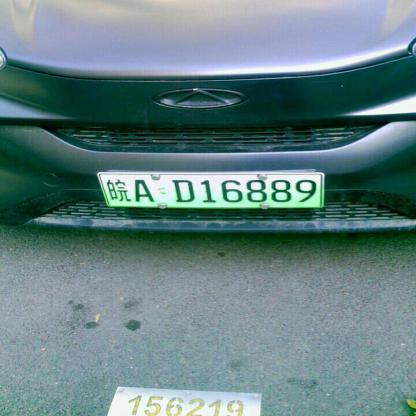lp: (100, 174, 322, 204)
